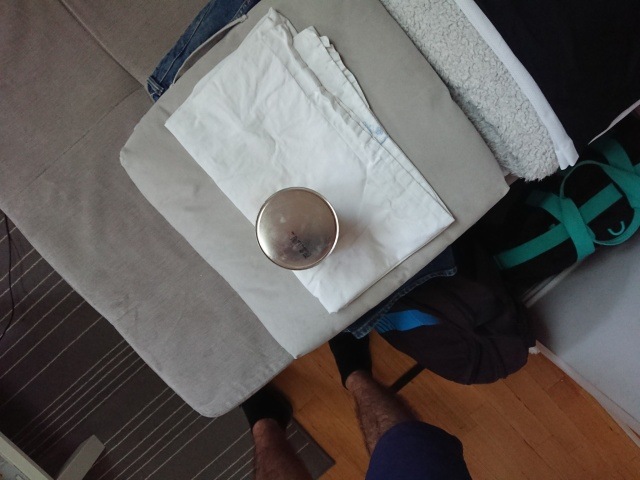Nescafe Classic 225g: (251, 184, 343, 273)
